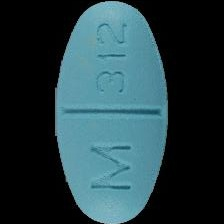51079-899: (0, 0, 224, 224)
